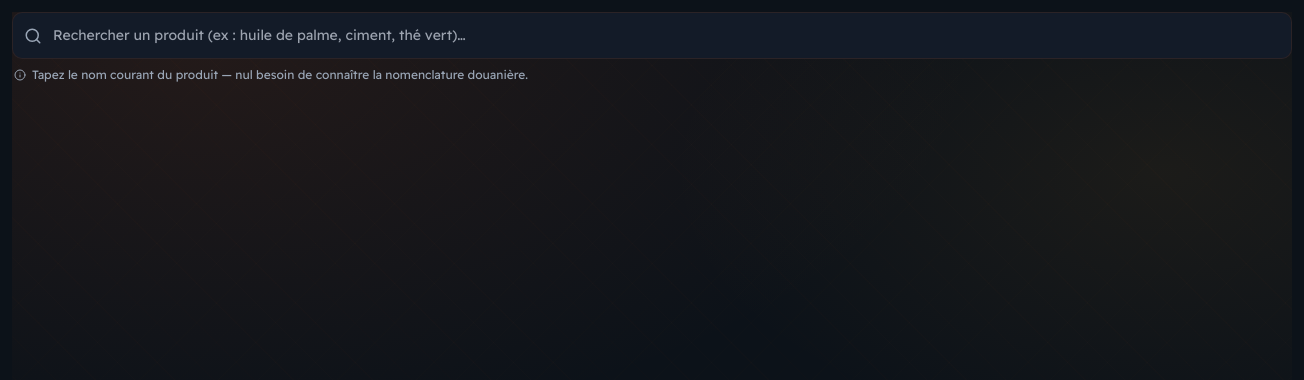
Test case: ProductHSSearch › appelle onSelect avec le code cliqué
The image size is (1304, 380).
Later steps or results of the test are not shown.
Type "huile de palme" into the field with test id "product-hs-input" at (652, 36), box [12,12,1292,59]
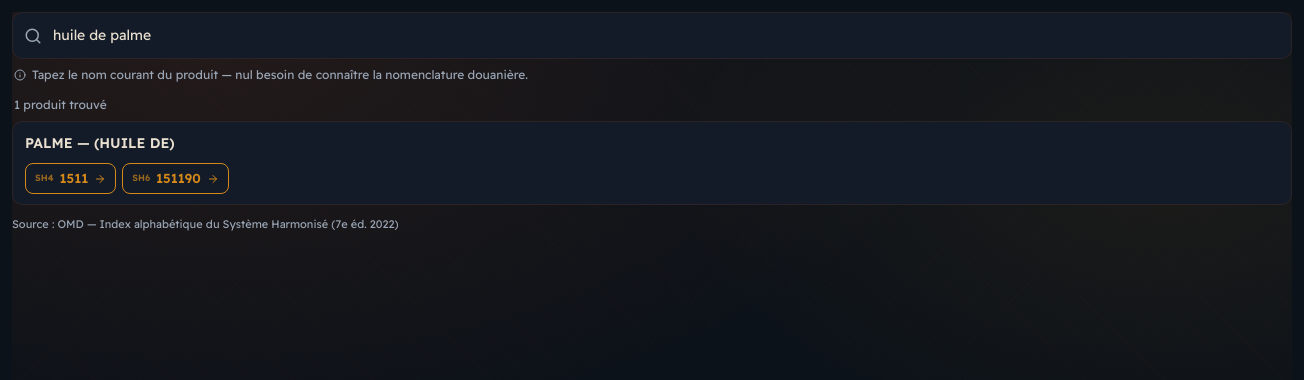
Expected: the button "SH6 151190" is shown, [122,163,229,194]
